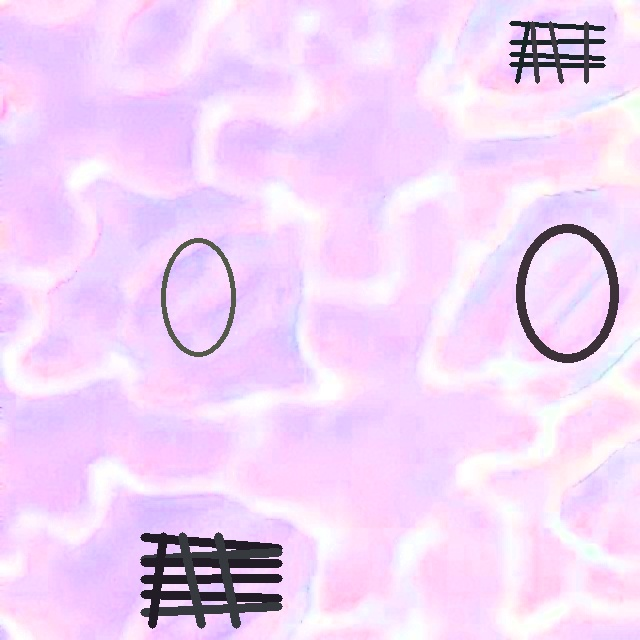close: (160, 238, 237, 357)
open: (515, 222, 619, 363), (140, 532, 281, 627), (509, 21, 605, 83)
